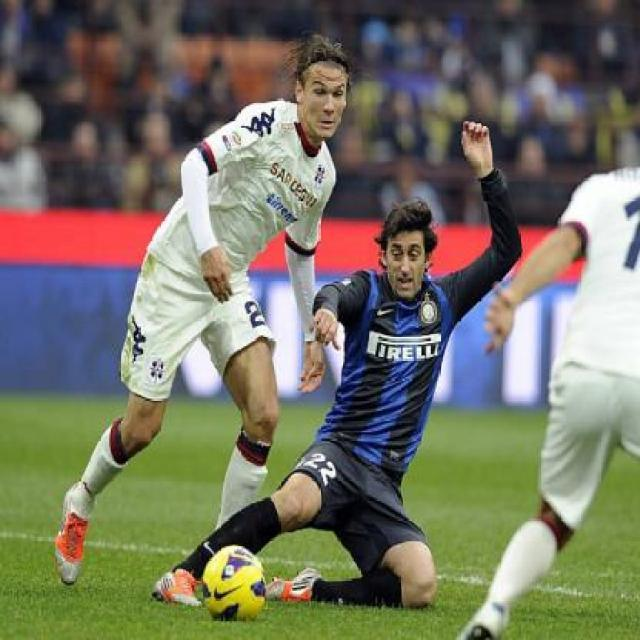ball: (196, 538, 278, 624)
player: (50, 30, 379, 599), (146, 122, 525, 608), (459, 148, 639, 639)
